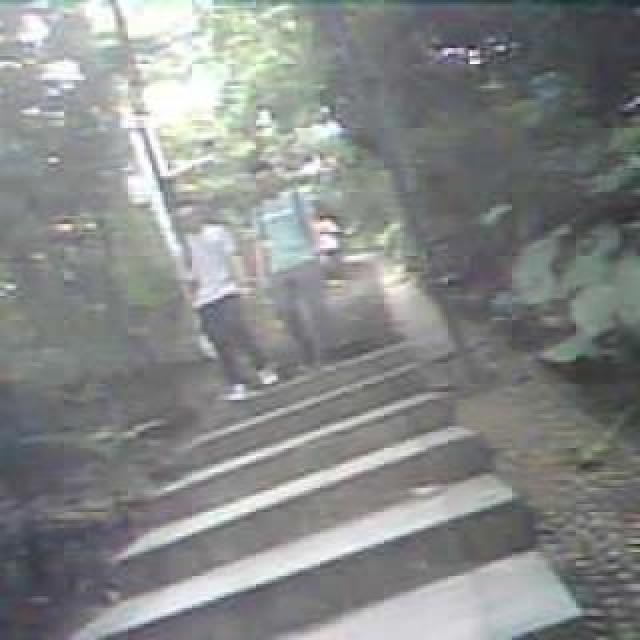non_violence: (173, 185, 277, 397), (250, 168, 342, 370)
